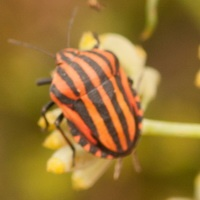insect: (51, 33, 147, 157), (72, 150, 112, 188)
